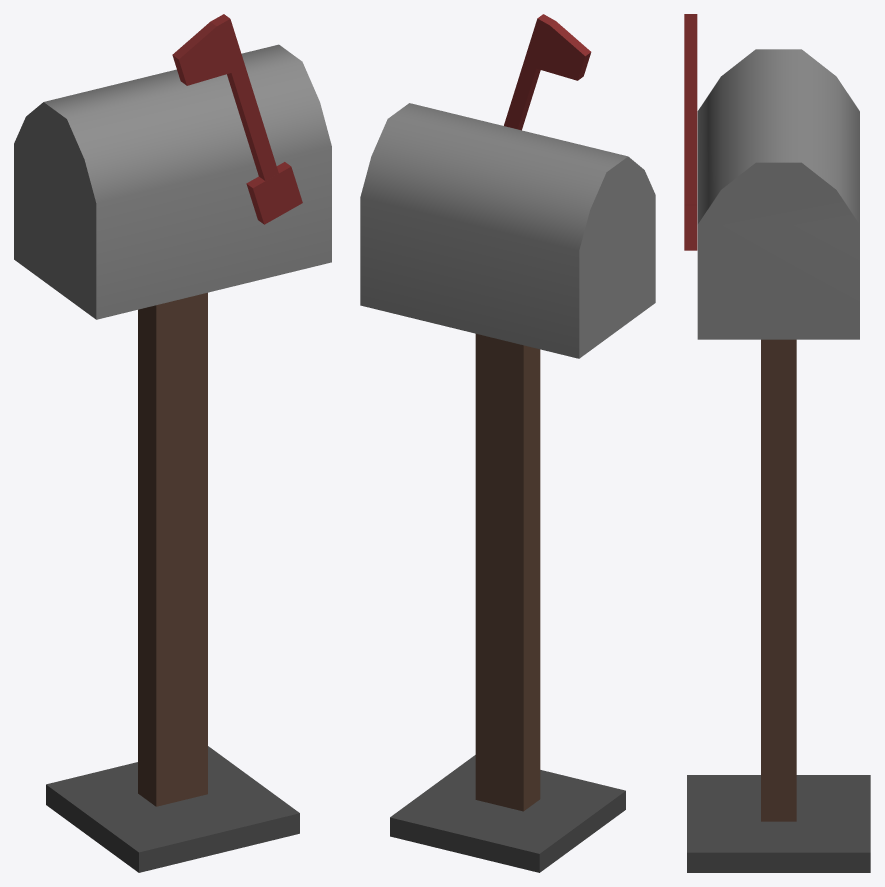
Rendered from outside_mailbox.fbx.
The picture shows the model from 3 angles, left to right: view 1: azimuth 30°, elevation 25°; view 2: azimuth 150°, elevation 25°; view 3: azimuth 270°, elevation 25°; orthographic projection. The views are drawn at different scales.
Visible parts, largest first — view 1: outside_mailbox; view 2: outside_mailbox; view 3: outside_mailbox.
Boxes of the visible parts, x1=… form: outside_mailbox: x1=14, y1=14, x2=331, y2=872; outside_mailbox: x1=360, y1=14, x2=655, y2=872; outside_mailbox: x1=684, y1=14, x2=870, y2=872.
Bounding box in the file's own units: 61.18 × 207 × 42.44.
